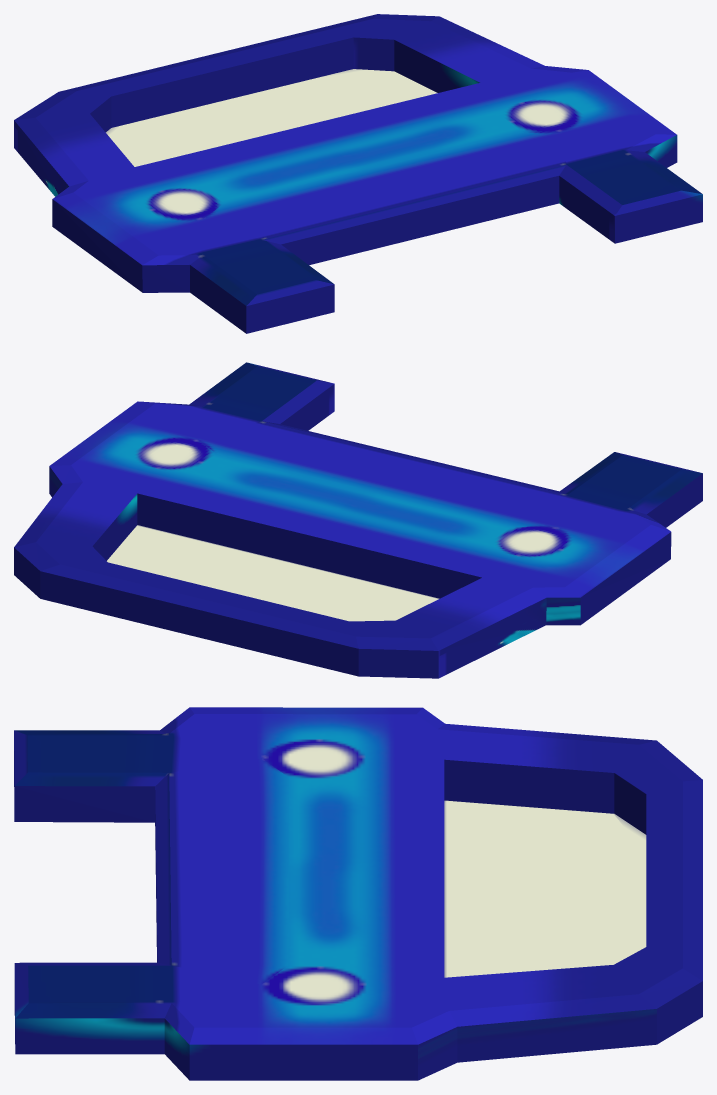
The model's file is model_car.obj.
3 renders of one model, top to bottom at view 1: azimuth 30°, elevation 25°; view 2: azimuth 150°, elevation 25°; view 3: azimuth 270°, elevation 25°, orthographic. The views are drawn at different scales.
Parts seen in each view (by area): view 1: Car_Plane.002; view 2: Car_Plane.002; view 3: Car_Plane.002.
Boxes of the visible parts, x1,y1,x2,y2 form: Car_Plane.002: [14, 14, 702, 333]; Car_Plane.002: [14, 362, 702, 678]; Car_Plane.002: [14, 707, 702, 1080].
Bounding box in the file's own units: 1.69 × 0.0956 × 1.46.
Materials: 1 (1 with a texture image).
